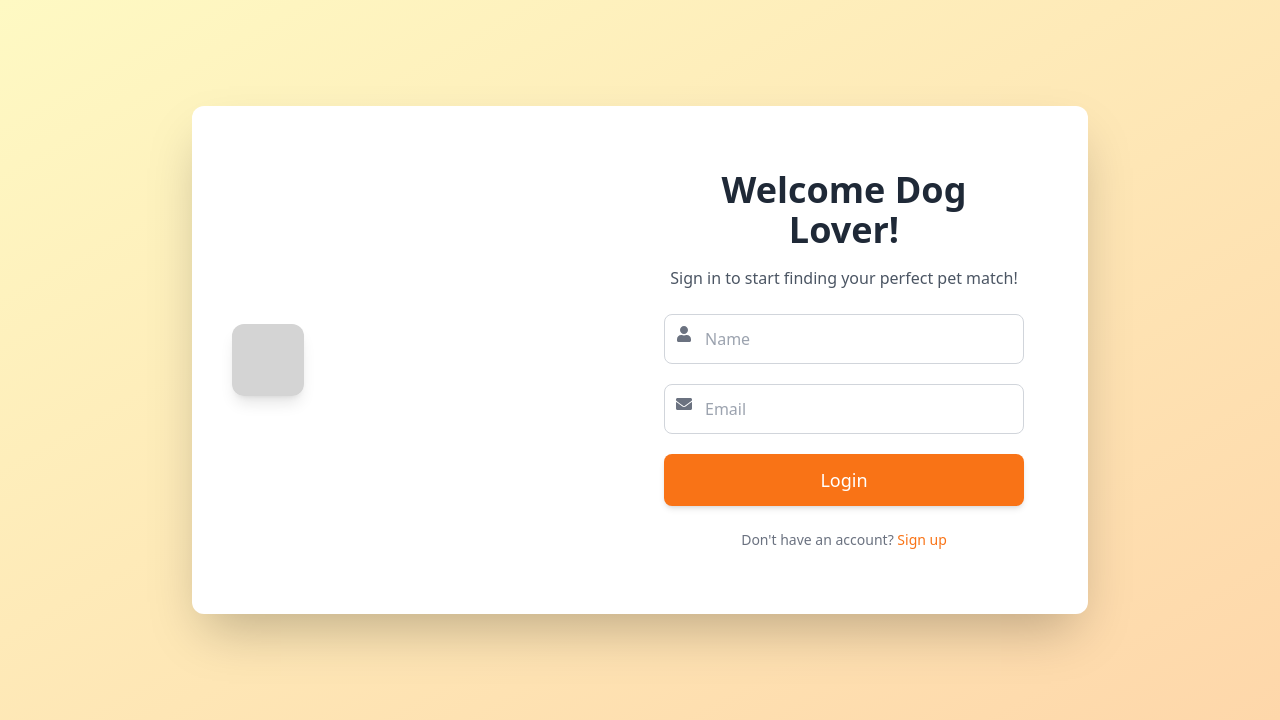
Test: Login Page Test › should show an error for invalid email format
The image size is (1280, 720).
Type "John Doe" into the field named "name".
click(844, 339); type("John Doe")  # box [664,314,1024,364]
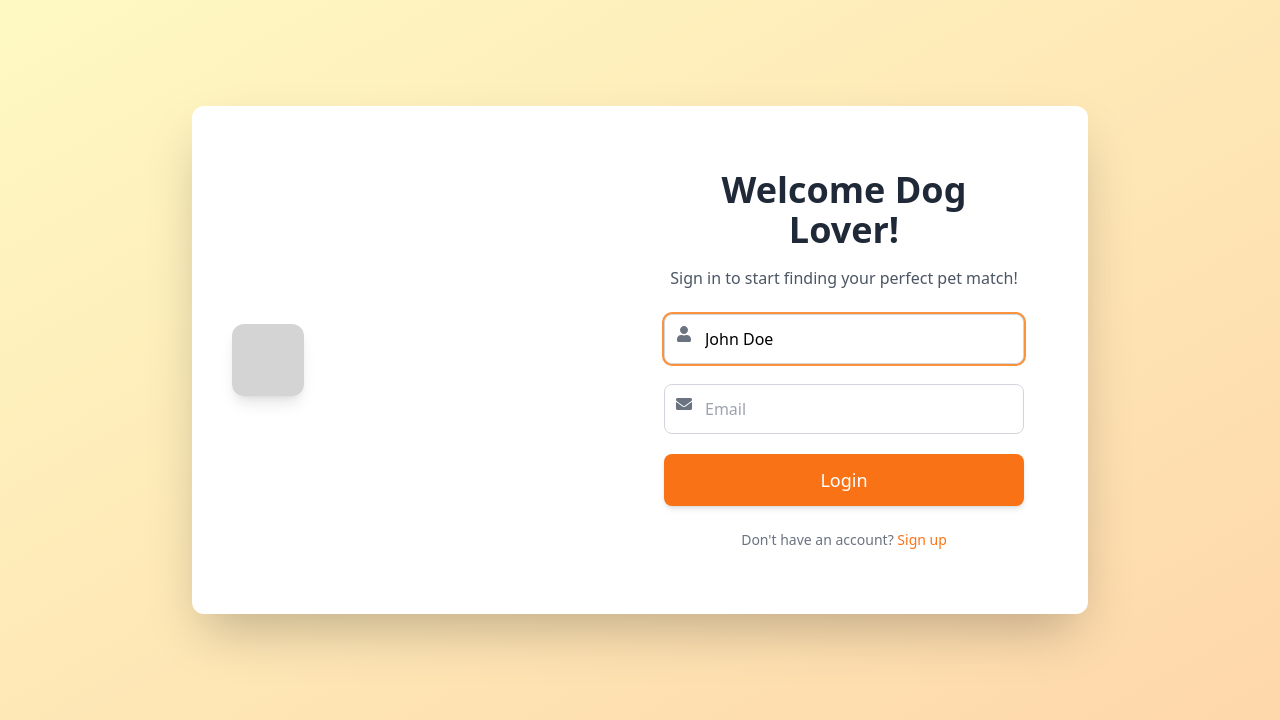
Type "invalid-email" into the field named "email".
click(844, 409); type("invalid-email")  # box [664,384,1024,434]
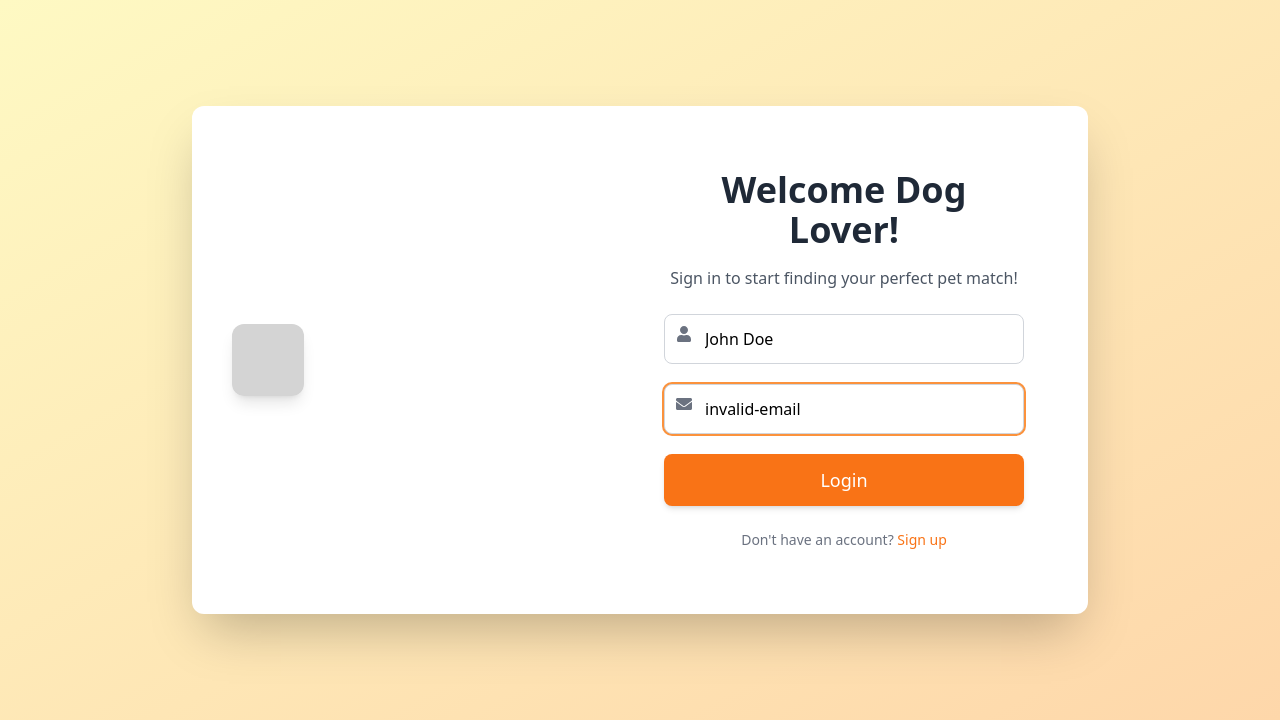
Click the submit button.
click(844, 480)  # box [664,454,1024,506]
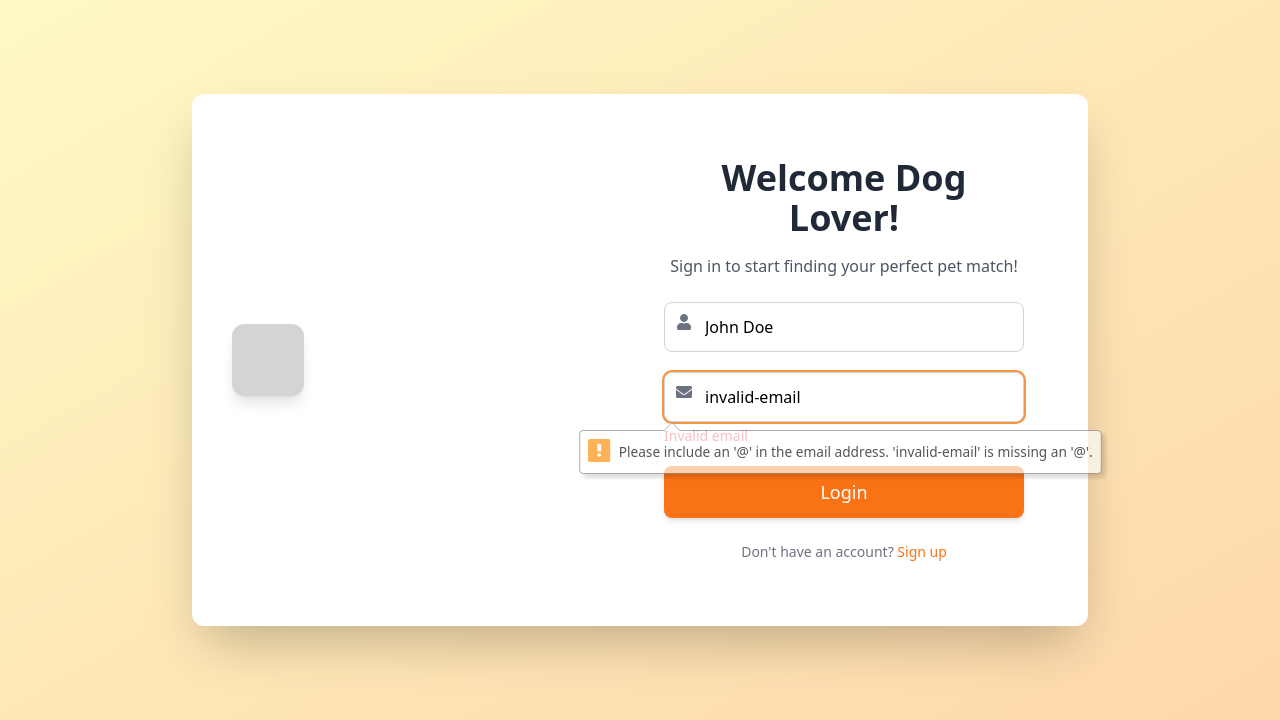
Now the text "Invalid email" is shown, box [664,426,748,445]
